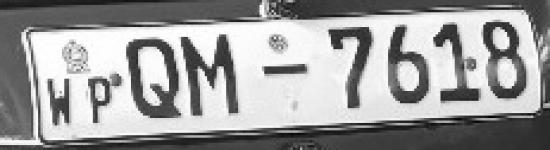-: (324, 24, 377, 110), (262, 64, 310, 77)
1: (432, 22, 482, 106)
6: (382, 25, 431, 103)
8: (483, 21, 530, 101)
M: (182, 35, 244, 121)
P: (86, 74, 118, 127)
Q: (122, 37, 179, 126)
W: (42, 78, 78, 130)
